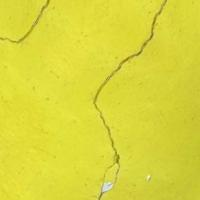crack: (1, 0, 164, 196)
